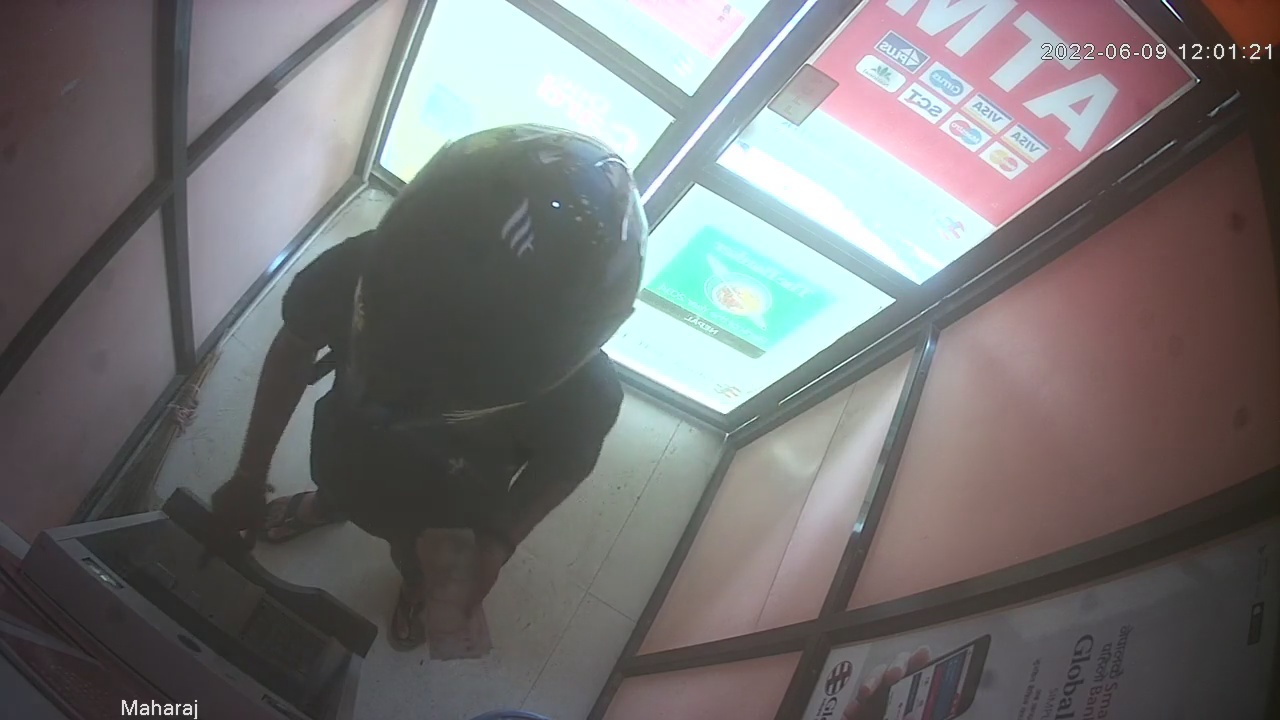helmet: (344, 124, 644, 425)
person: (201, 122, 651, 665)
